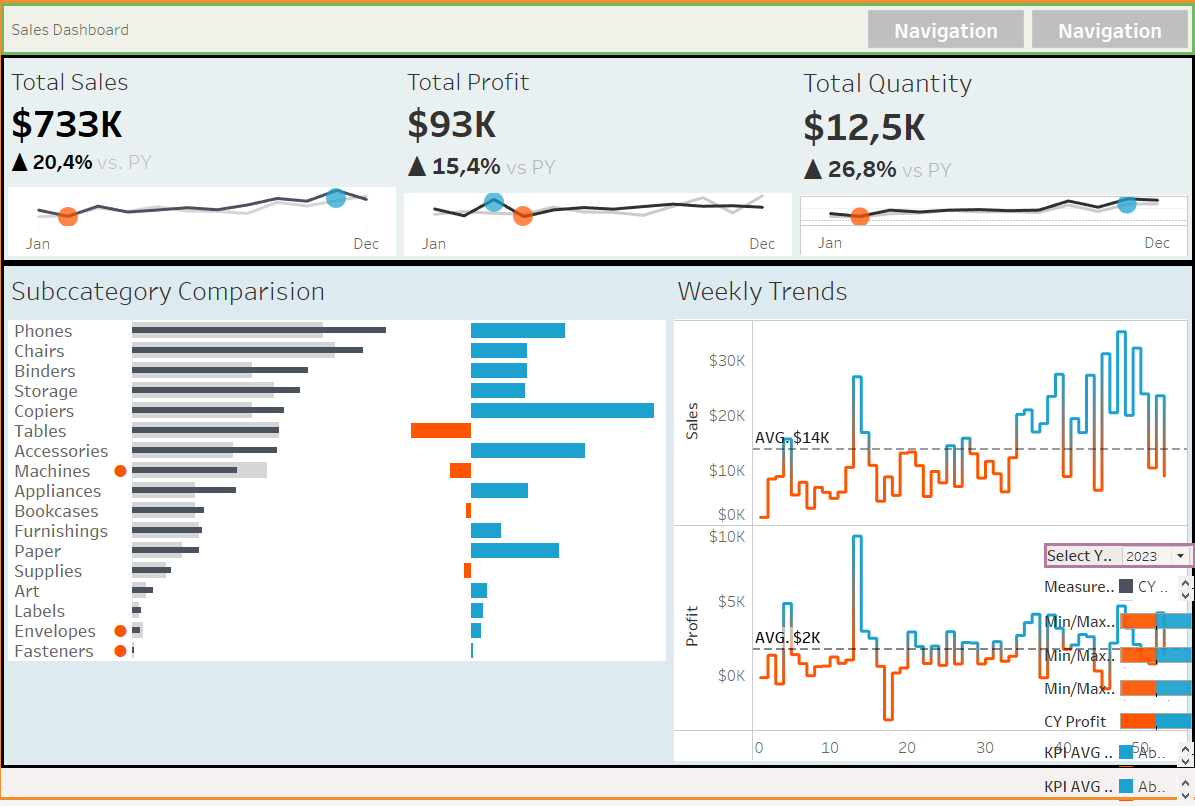

This screenshot's page, from the dashboard's own definition file:
{"tool":"tableau","page":{"name":"Sales Dashboard","canvas":[1200,800],"ordinal":1},"visuals":[{"type":"image","param":"D:/PARA/01 Projects/Create portfolio/Tableau/Sales-Dashboard-Materials/Sales Das","box":[1,1,58,60]},{"type":"text","box":[59,1,766,60]},{"type":"blank","box":[998,11,190,70]},{"type":"dashboard-object","box":[984,16,76,60]},{"type":"dashboard-object","box":[1060,16,76,60]},{"type":"worksheet","title":"Legend KPI","mark":"Automatic","box":[1,61,1198,30]},{"type":"text","box":[998,81,190,40]},{"type":"worksheet","title":"KPI Sales","mark":"Automatic","rows":["Calculation_1024006001373376516"],"cols":["Order Date"],"box":[1,91,400,268]},{"type":"worksheet","title":"KPI Profits","mark":"Line","rows":["Calculation_1024006001667932173"],"cols":["Order Date"],"box":[401,91,399,268]},{"type":"worksheet","title":"KPI Quantity","mark":"Line","rows":["Min/Max Sales (copy)_1024006001684439061"],"cols":["Order Date"],"box":[800,91,399,268]},{"type":"parameter","param":"[Parameters].[Parameter 1]","box":[998,121,190,61]},{"type":"blank","box":[998,182,190,32]},{"type":"text","box":[998,214,190,33]},{"type":"filter","title":"KPI Sales","param":"[federated.06loeet1mj79jl1d7w04m1d4yi2a].[none:Category:nk]","box":[998,247,190,56]},{"type":"filter","title":"KPI Sales","param":"[federated.06loeet1mj79jl1d7w04m1d4yi2a].[none:Sub-Category:nk]","box":[998,303,190,56]},{"type":"blank","box":[998,359,190,26]},{"type":"text","box":[18,376,565,40]},{"type":"text","box":[617,376,565,40]},{"type":"text","box":[998,385,190,33]},{"type":"worksheet","title":"Legend Subcategory","mark":"Automatic","box":[18,416,359,35]},{"type":"text","box":[377,416,206,35]},{"type":"text","box":[617,416,565,29]},{"type":"filter","title":"KPI Sales","param":"[federated.06loeet1mj79jl1d7w04m1d4yi2a].[none:Region:nk]","box":[998,418,190,56]},{"type":"worksheet","title":"Weekly Trends","mark":"Line","rows":["Calculation_1024006001359978496","Calculation_1024006001663000586"],"cols":["Order Date"],"box":[617,445,565,337]},{"type":"worksheet","title":"Subccategory Comparision","mark":"Bar","rows":["Sub-Category","Calculation_1233423384661626880"],"cols":["CY Sales (copy)_1024006001361219585","Calculation_1024006001359978496","Calculation_1024006001663000586"],"box":[18,451,565,330.9]},{"type":"filter","title":"KPI Sales","param":"[federated.06loeet1mj79jl1d7w04m1d4yi2a].[none:State:nk]","box":[998,474,190,56]},{"type":"filter","title":"KPI Sales","param":"[federated.06loeet1mj79jl1d7w04m1d4yi2a].[none:City:nk]","box":[998,530,190,56]}]}

Visuals, with their boxes in screenshot pixels (x1, y1, x2, y2), scaled from the page's 1200x800 canvas onto the 1195x806 screenshot:
image: rect(1, 1, 59, 61)
text: rect(59, 1, 822, 61)
blank: rect(994, 11, 1183, 82)
dashboard-object: rect(980, 16, 1056, 77)
dashboard-object: rect(1056, 16, 1131, 77)
"Legend KPI" worksheet: rect(1, 61, 1194, 92)
text: rect(994, 82, 1183, 122)
"KPI Sales" worksheet: rect(1, 92, 399, 362)
"KPI Profits" worksheet (Line marks): rect(399, 92, 797, 362)
"KPI Quantity" worksheet (Line marks): rect(797, 92, 1194, 362)
parameter: rect(994, 122, 1183, 183)
blank: rect(994, 183, 1183, 216)
text: rect(994, 216, 1183, 249)
"KPI Sales" filter: rect(994, 249, 1183, 305)
"KPI Sales" filter: rect(994, 305, 1183, 362)
blank: rect(994, 362, 1183, 388)
text: rect(18, 379, 581, 419)
text: rect(614, 379, 1177, 419)
text: rect(994, 388, 1183, 421)
"Legend Subcategory" worksheet: rect(18, 419, 375, 454)
text: rect(375, 419, 581, 454)
text: rect(614, 419, 1177, 448)
"KPI Sales" filter: rect(994, 421, 1183, 478)
"Weekly Trends" worksheet (Line marks): rect(614, 448, 1177, 788)
"Subccategory Comparision" worksheet (Bar marks): rect(18, 454, 581, 788)
"KPI Sales" filter: rect(994, 478, 1183, 534)
"KPI Sales" filter: rect(994, 534, 1183, 590)
